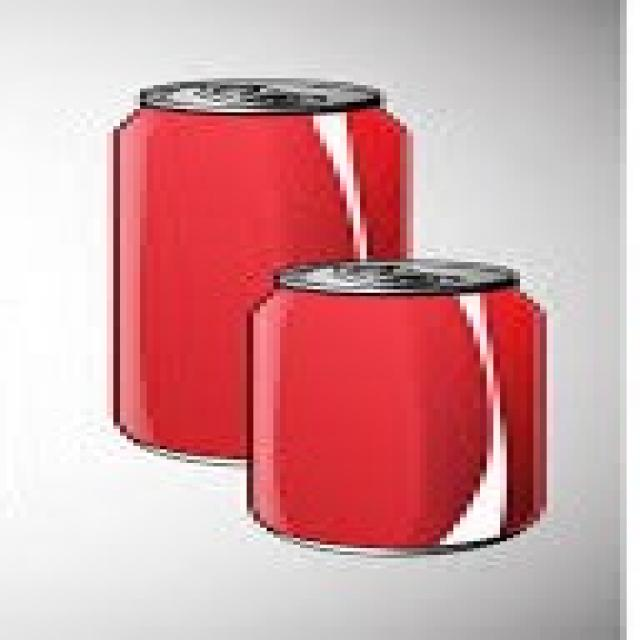Cans: (240, 252, 553, 558)
